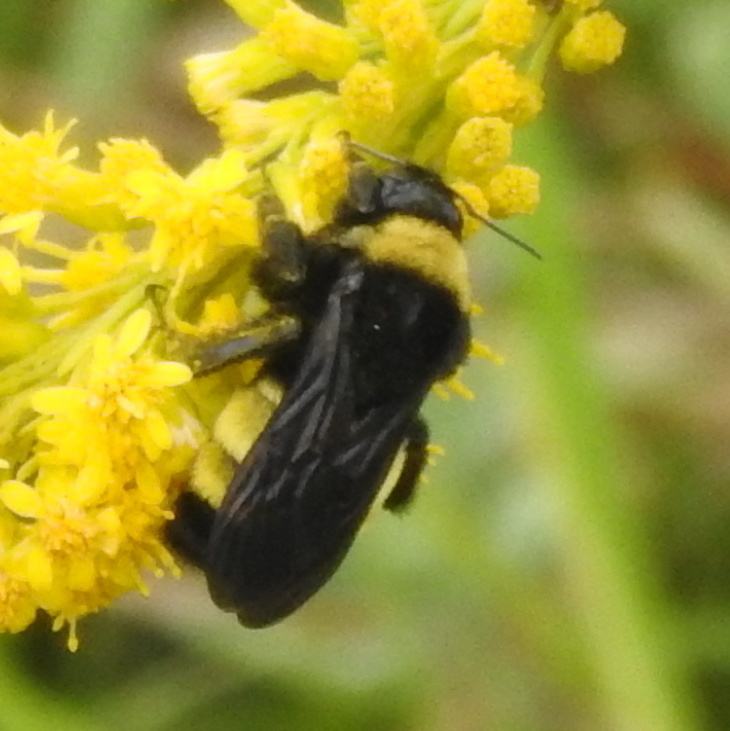bumblebee: (154, 148, 545, 636)
